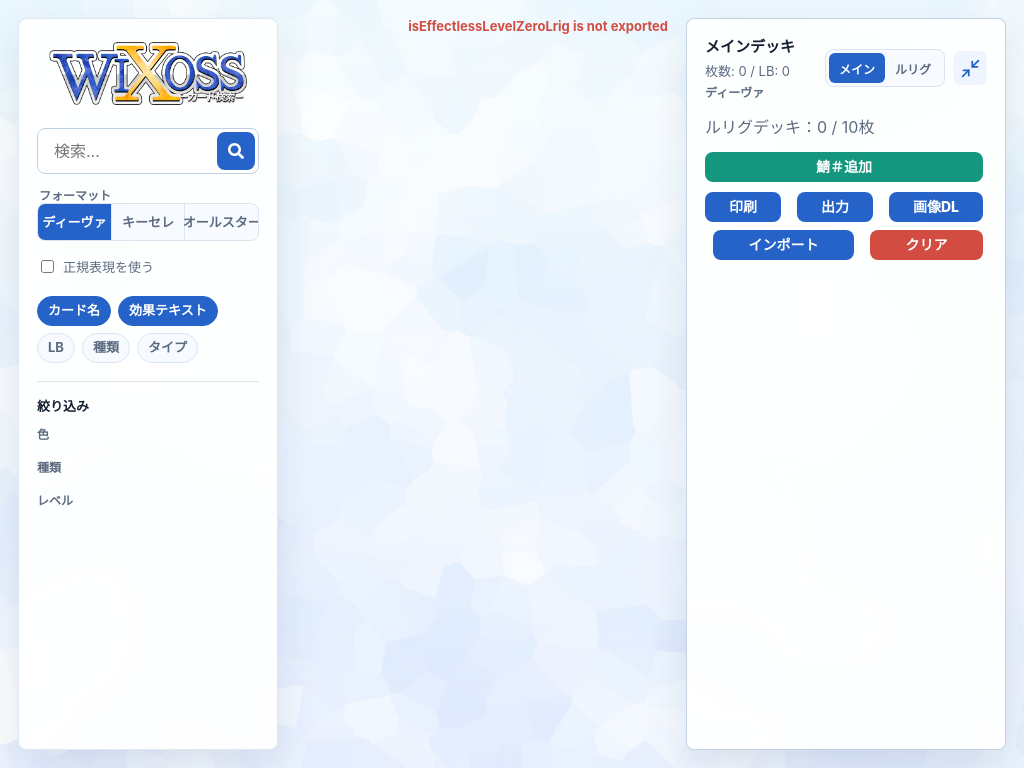
format selection is an exclusive radio group
Click the radio button labelled "キーセレ" at x=148, y=222, box [111,204,184,240]
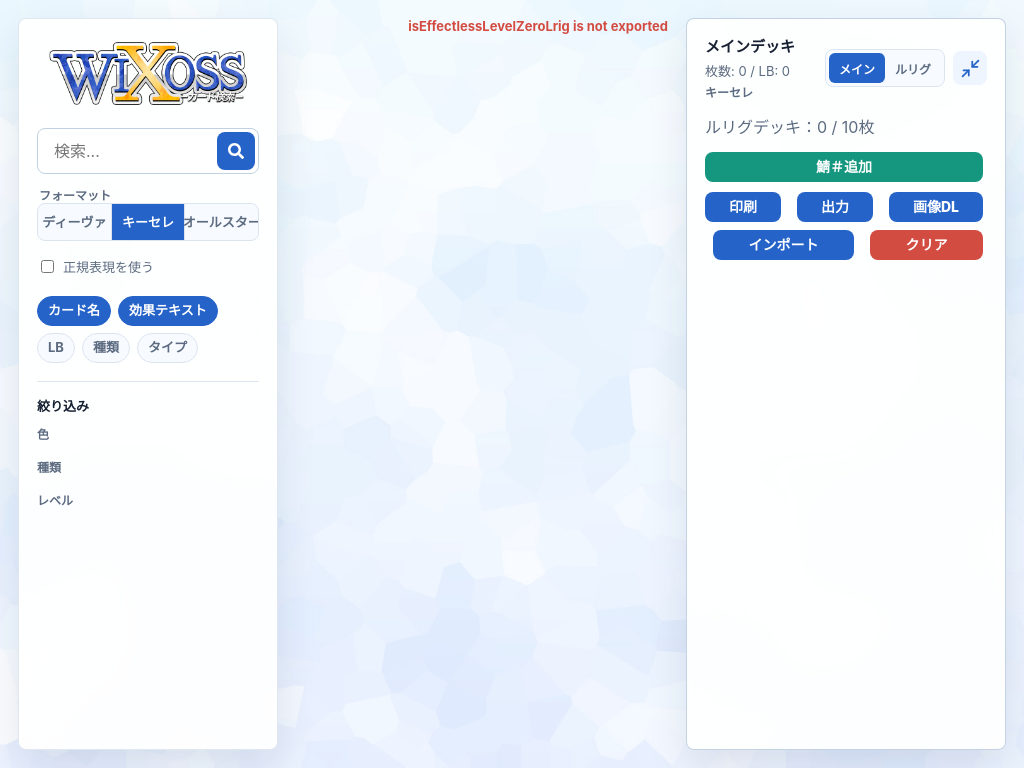
Expected: the radio button labelled "キーセレ" is checked, [111,204,184,240]
Expected: the radio button labelled "ディーヴァ" is not checked, [42,214,106,230]
